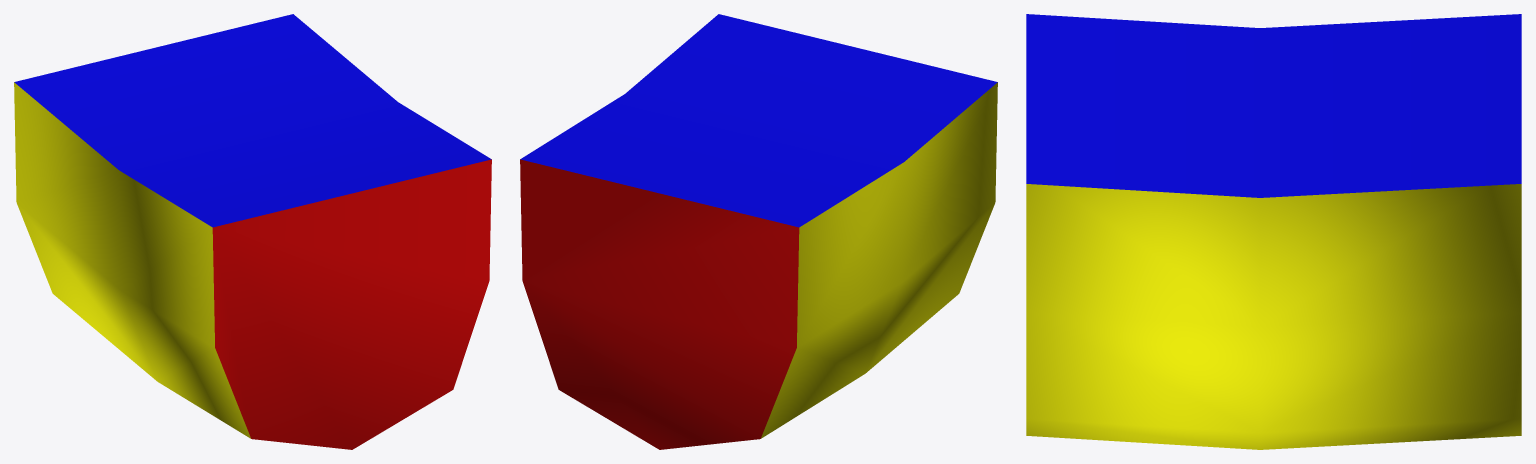
3 views of the same model, side by side, from view 1: azimuth 30°, elevation 25°; view 2: azimuth 150°, elevation 25°; view 3: azimuth 270°, elevation 25° (orthographic). The views are drawn at different scales.
Visible parts, largest first — view 1: polySurface130; view 2: polySurface130; view 3: polySurface130.
Part boxes in pixels (<box>): polySurface130: <box>14,14,491,449</box>; polySurface130: <box>520,14,997,449</box>; polySurface130: <box>1026,14,1521,449</box>.
Size of the model in its own units: 23.58 by 21.62 by 29.05.
